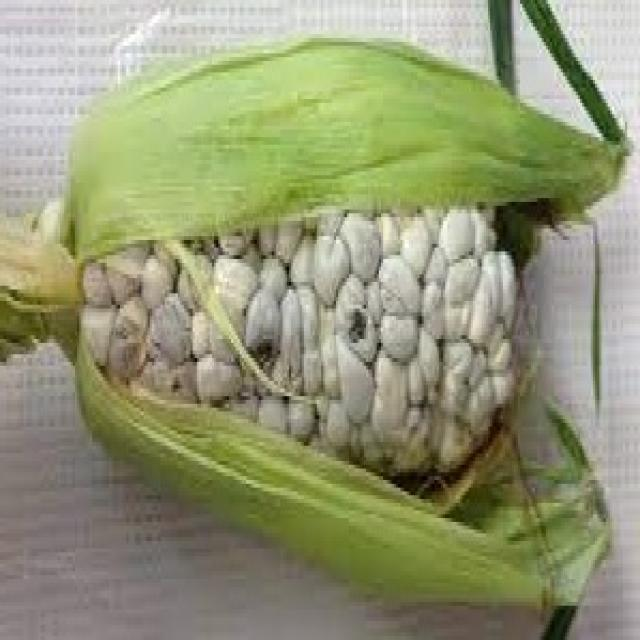Leaf_Scald: (46, 51, 591, 579)
